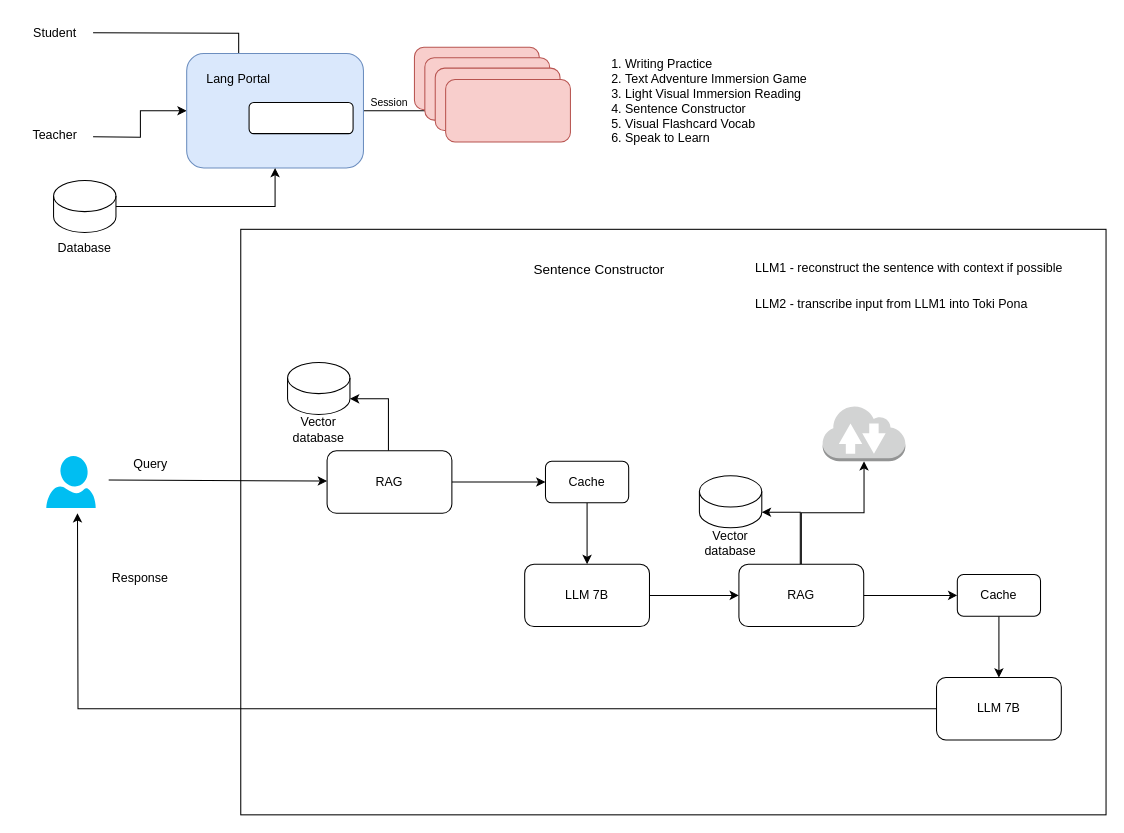
This 1124x833 diagram has some shape labels left out. Here are the shapes that lost their labels. From the top down, the box of each, then its label:
(248, 101, 353, 134): Word Group
(445, 79, 570, 142): Study Activities
